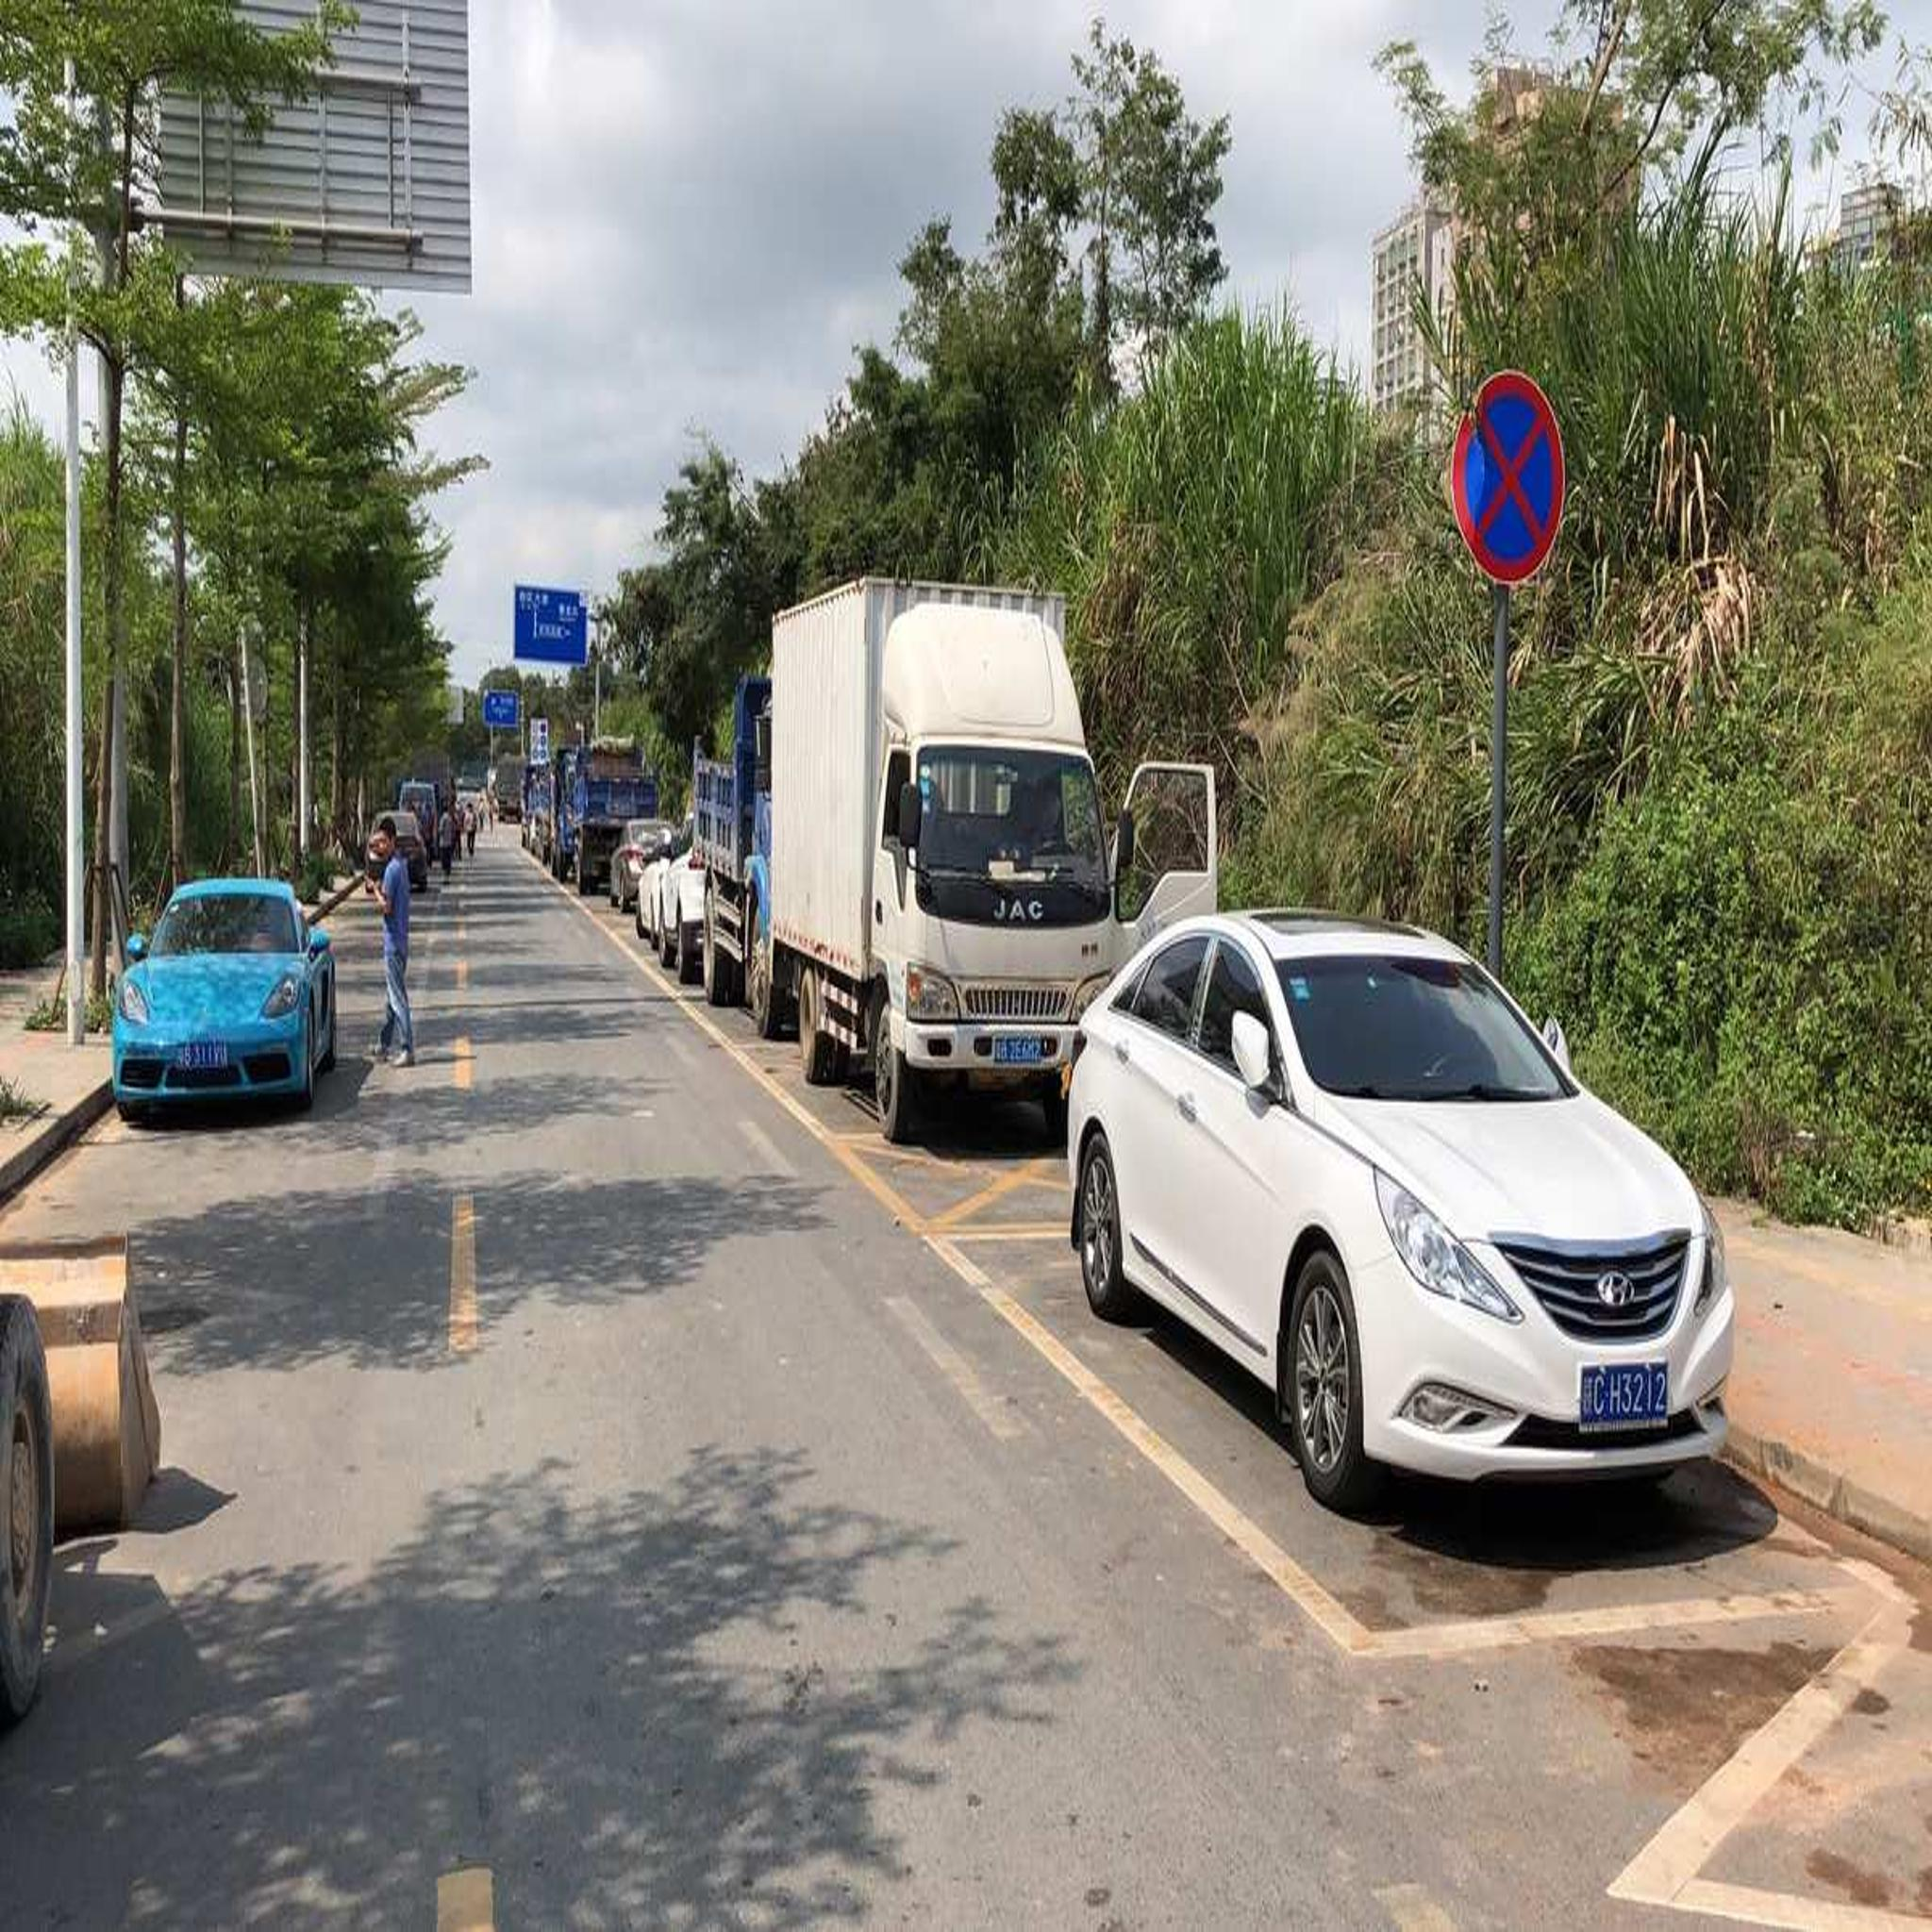pn: (1453, 368, 1566, 584)
